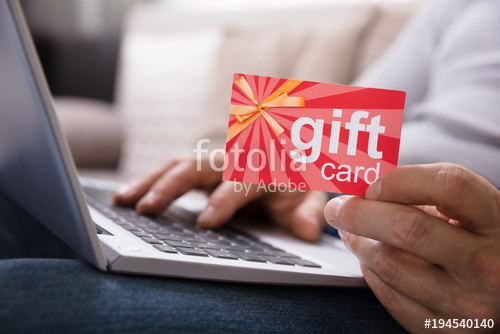finger: (321, 192, 487, 267), (336, 229, 461, 303), (363, 164, 500, 230), (135, 162, 222, 210), (111, 160, 171, 206), (192, 179, 253, 224)
